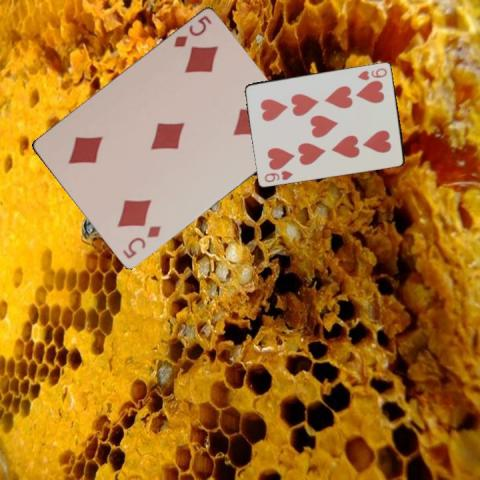5d: (118, 223, 162, 260), (171, 13, 213, 49)
9h: (354, 65, 388, 81), (261, 168, 295, 184)
